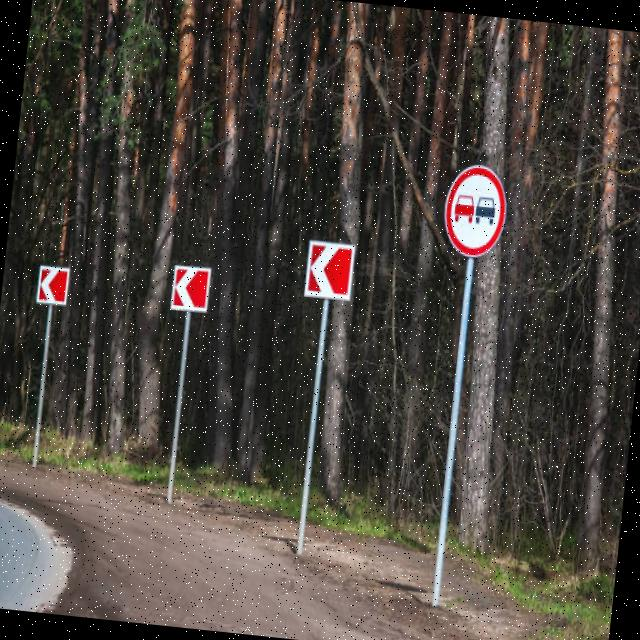no_passing: (426, 154, 516, 269)
